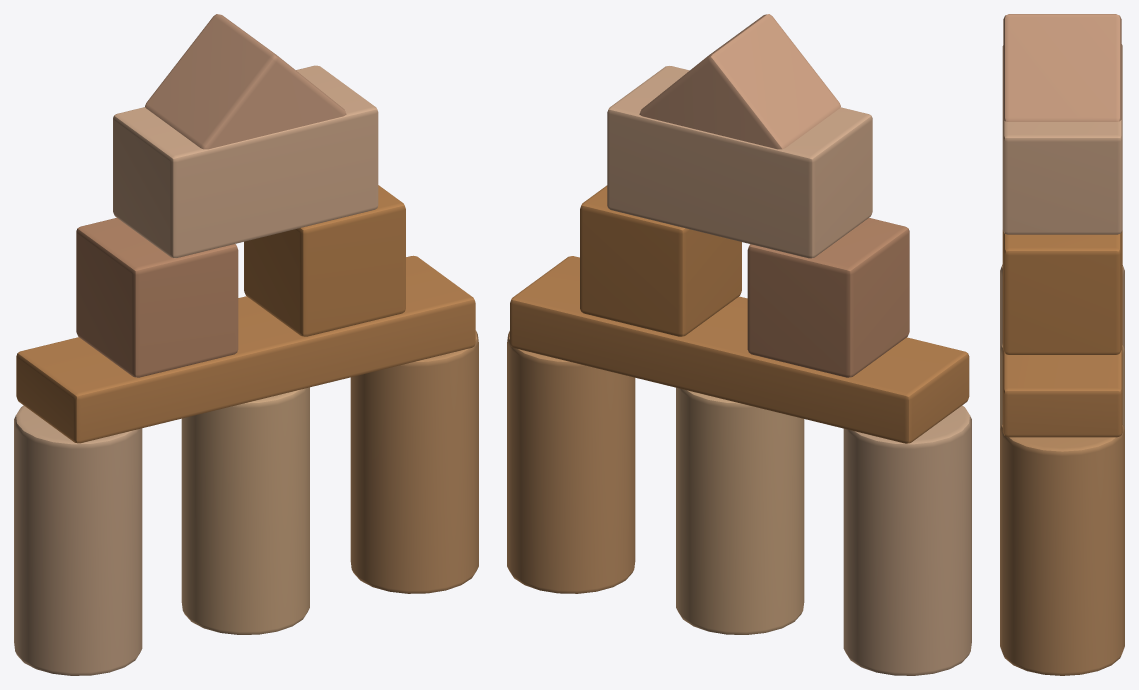
Rendered from Building_Block_1.fbx.
3 views of the same model, side by side, from view 1: azimuth 30°, elevation 25°; view 2: azimuth 150°, elevation 25°; view 3: azimuth 270°, elevation 25° (orthographic). The views are drawn at different scales.
Visible parts, largest first — view 1: pCube2, pCylinder1, pCube5, pCylinder3, pCylinder2, pCube6, pCube7, pCube8; view 2: pCube2, pCylinder1, pCube5, pCylinder3, pCylinder2, pCube6, pCube7, pCube8; view 3: pCylinder3, pCube7, pCube5, pCube8, pCube2, pCylinder2, pCylinder1.
Part boxes in pixels (x1,y1,x2,y2): pCube2: (16, 255, 475, 443); pCylinder1: (14, 405, 142, 675); pCube5: (113, 65, 378, 258); pCylinder3: (350, 330, 478, 593); pCylinder2: (181, 387, 309, 634); pCube6: (76, 218, 238, 377); pCube7: (244, 185, 405, 336); pCube8: (145, 14, 346, 149); pCube2: (510, 256, 969, 443); pCylinder1: (843, 405, 971, 675); pCube5: (607, 66, 872, 258); pCylinder3: (507, 331, 635, 593); pCylinder2: (676, 387, 804, 634); pCube6: (747, 218, 909, 377); pCube7: (580, 185, 741, 336); pCube8: (639, 14, 840, 149); pCylinder3: (1000, 423, 1124, 675); pCube7: (1003, 231, 1121, 354); pCube5: (1002, 44, 1122, 234); pCube8: (1003, 14, 1121, 121); pCube2: (1002, 230, 1122, 437); pCylinder2: (1000, 343, 1124, 429); pCylinder1: (1000, 264, 1124, 349).
Size of the model in its own units: 8.02 by 9.85 by 2.
